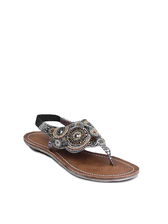shoes: (14, 113, 145, 181)
